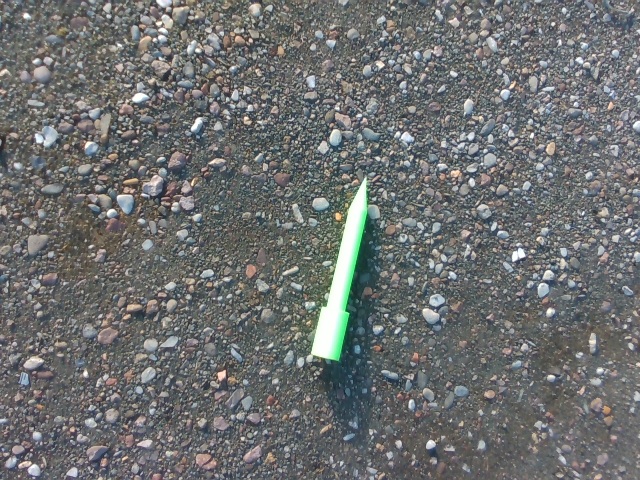Probe: (310, 165, 373, 371)
